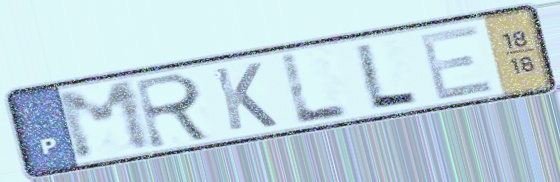E: (415, 21, 498, 103)
K: (209, 60, 281, 134)
L: (278, 50, 355, 127), (352, 40, 423, 110)
M: (49, 77, 159, 164)
R: (131, 70, 217, 152)
